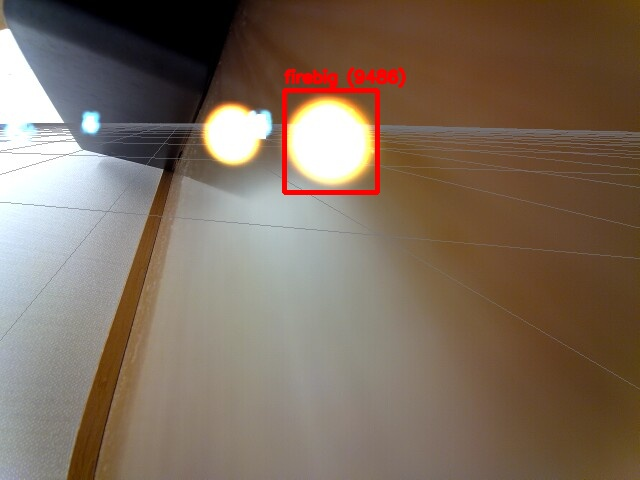firebig: (284, 90, 377, 192)
